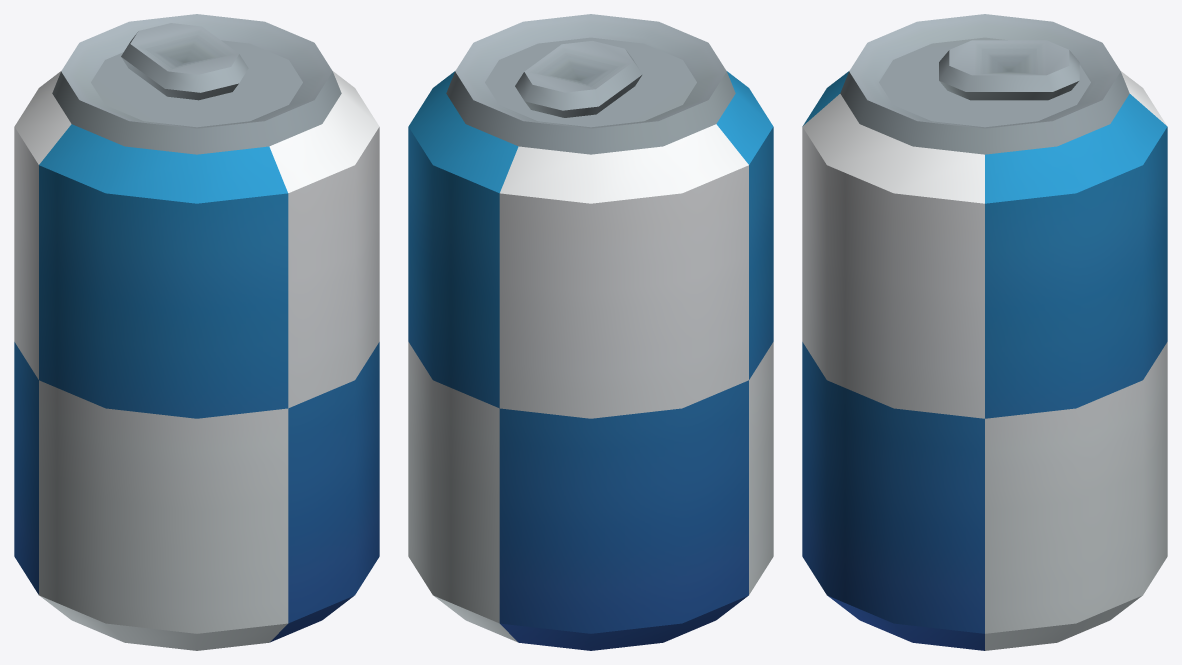
File: Can_A.glb
3 views of the same model, side by side, from view 1: azimuth 30°, elevation 25°; view 2: azimuth 150°, elevation 25°; view 3: azimuth 270°, elevation 25° (orthographic).
Visible parts, largest first — view 1: Can_A; view 2: Can_A; view 3: Can_A.
Boxes of the visible parts, x1,y1,x2,y2 form: Can_A: (14, 14, 379, 650); Can_A: (408, 14, 773, 650); Can_A: (802, 14, 1167, 650).
Bounding box in the file's own units: 0.3 × 0.4823 × 0.3.
1 material, 1 textured.
